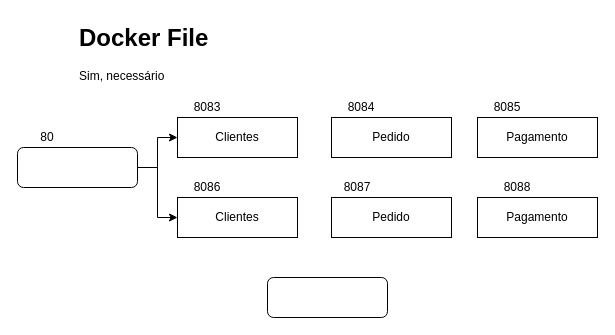
The diagram is 615 pixels wide and 335 high, and some of its shapes have lost their labels. The centre of each missing label's shape, as x and y in pixels:
"NGInx" goes at point (77, 167).
"RabbitMQ" goes at point (327, 297).
